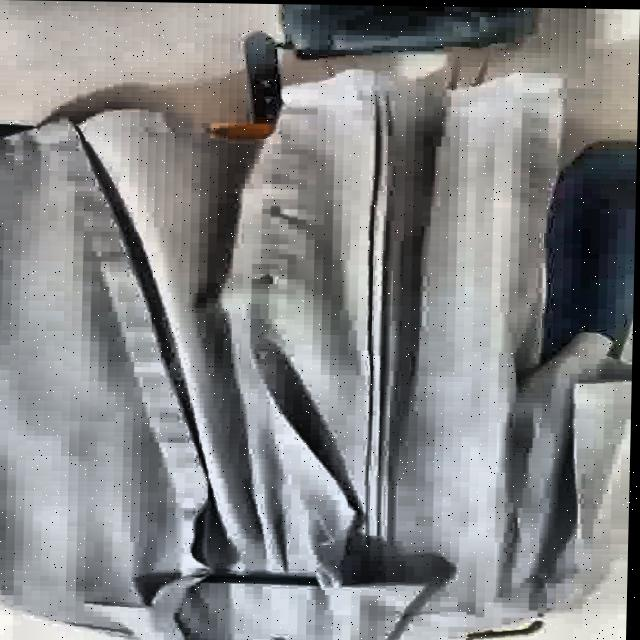clothes: (0, 44, 633, 640)
